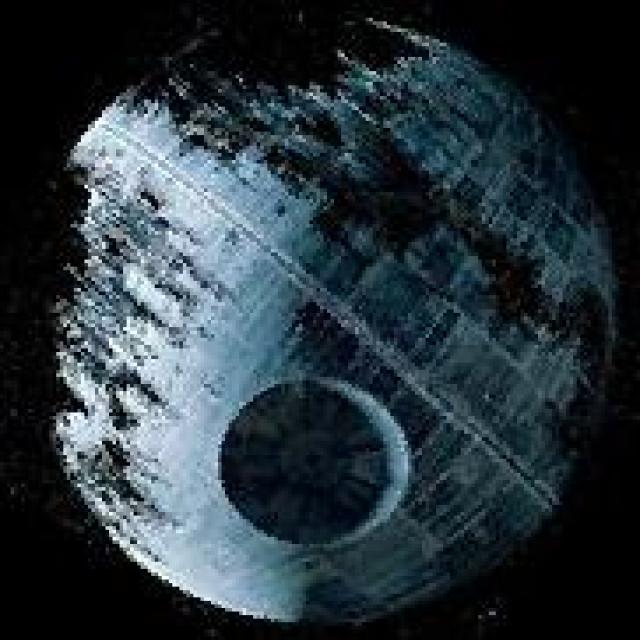Death Star: (35, 0, 629, 629)
